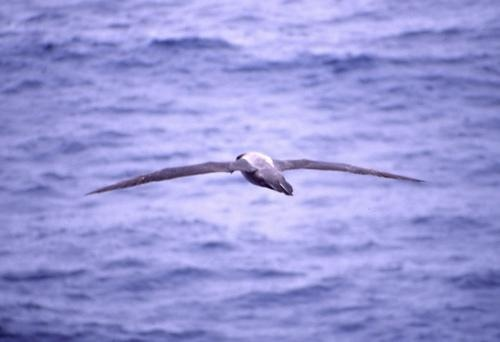bird: (80, 146, 428, 200)
